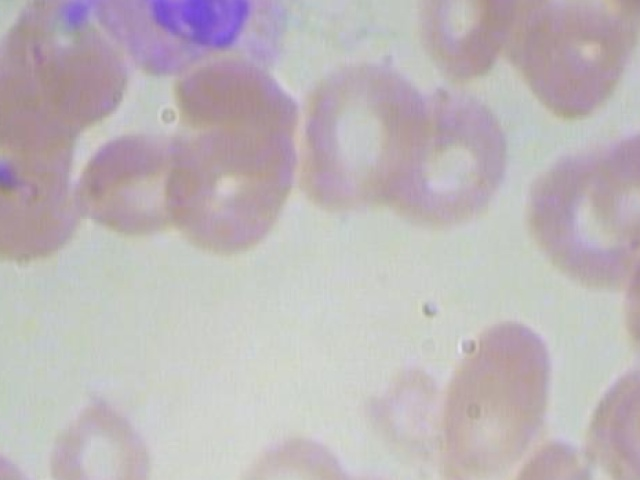Platelets: (0, 0, 36, 6)
RBC: (291, 54, 442, 214), (371, 83, 519, 232), (434, 312, 552, 473), (73, 117, 216, 241), (0, 147, 92, 272), (39, 390, 166, 480), (415, 0, 526, 78), (222, 425, 359, 480), (616, 222, 640, 371), (345, 467, 436, 480)
WBC: (18, 0, 305, 79)
